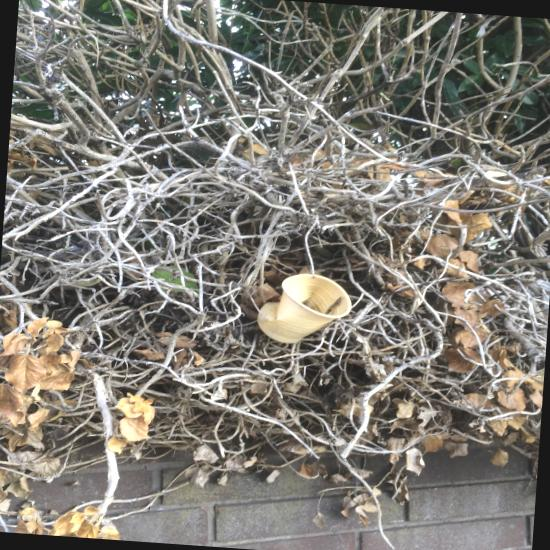Disposable plastic cup: (257, 273, 351, 343)
